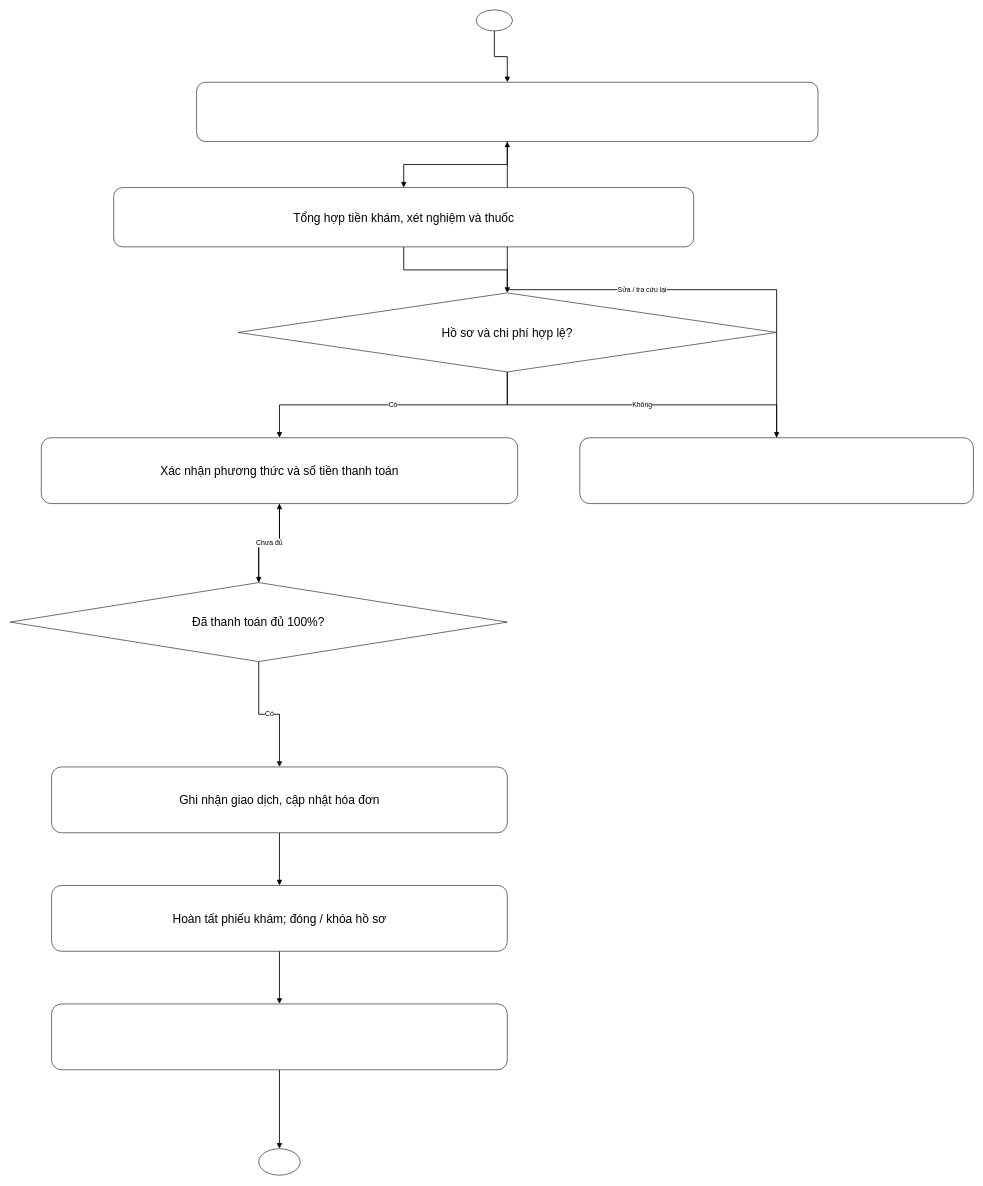
This 983x1186 diagram has some shape labels left out. Here are the shapes that lost their labels. From the top down, the centre of each, then its label:
At (507,112): "Nhập mã hồ sơ / phiếu khám".
At (776,470): "Thông báo khoản thiếu / dữ liệu sai".
At (279,1036): "Xuất biên lai và xác nhận xuất viện".
